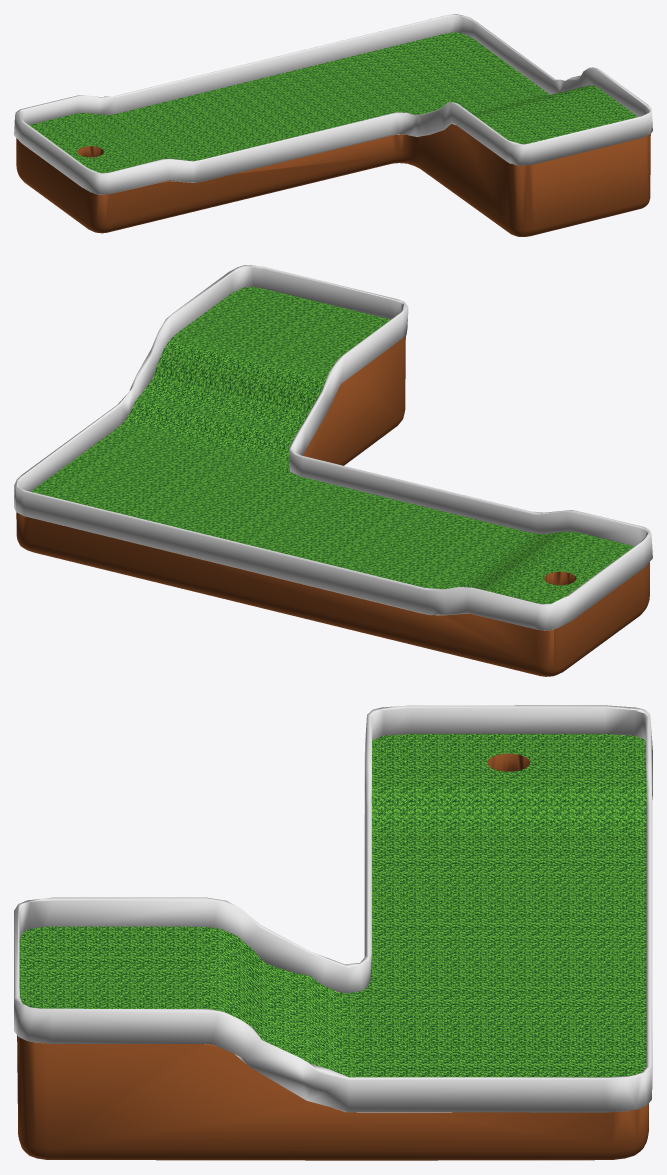
3 views of the same model, one above another, from view 1: azimuth 30°, elevation 25°; view 2: azimuth 150°, elevation 25°; view 3: azimuth 270°, elevation 25° (orthographic). The views are drawn at different scales.
Parts seen in each view (by area): view 1: MiniCourse; view 2: MiniCourse; view 3: MiniCourse.
Boxes of the visible parts, <box> form: MiniCourse: <box>14,14,652,236</box>; MiniCourse: <box>14,265,652,676</box>; MiniCourse: <box>14,705,652,1160</box>.
Bounding box in the file's own units: 24.19 × 5.02 × 18.18.
Materials: 3 (1 with a texture image).
